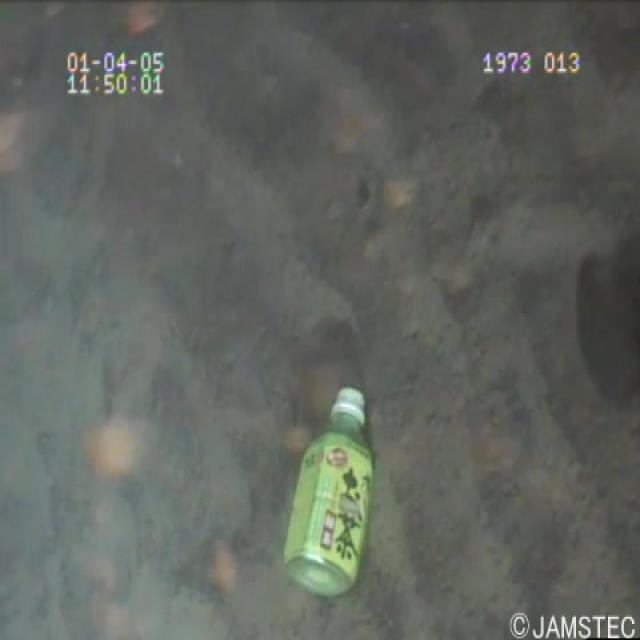plastic: (277, 377, 387, 608)
